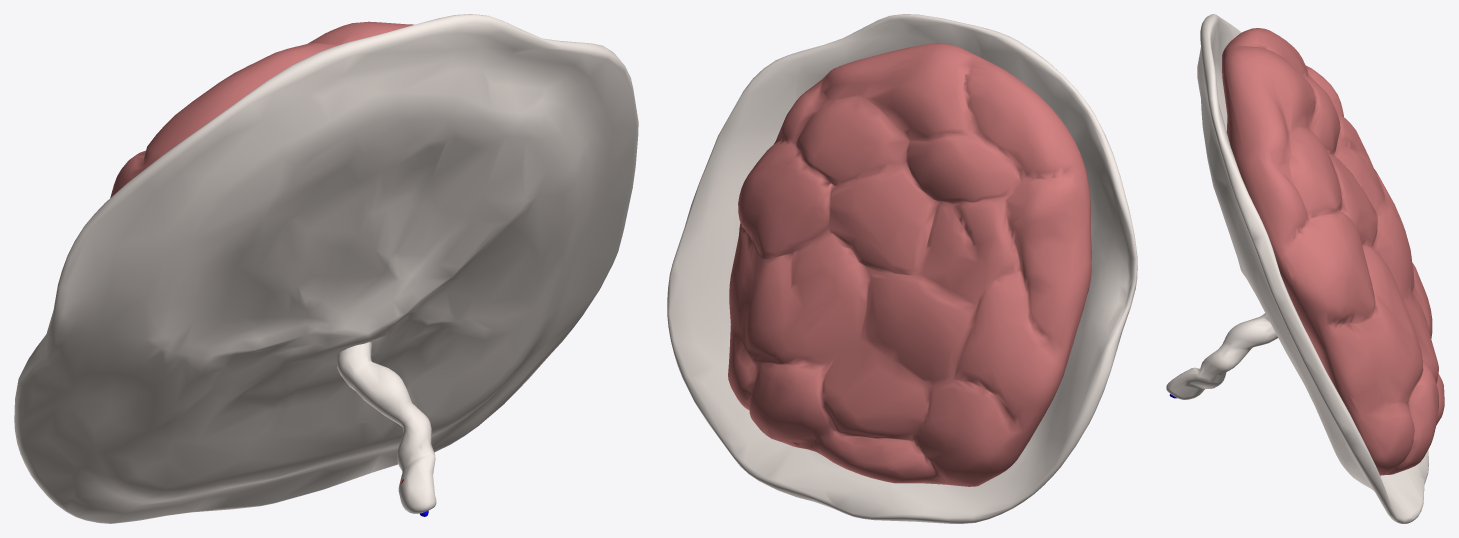
File: hra-placenta.glb
3 renders of one model, left to right at view 1: azimuth 30°, elevation 25°; view 2: azimuth 150°, elevation 25°; view 3: azimuth 270°, elevation 25°, orthographic. The views are drawn at different scales.
Parts seen in each view (by area): view 1: VH_F_amnion, VH_F_basal_plate; view 2: VH_F_basal_plate, VH_F_amnion; view 3: VH_F_basal_plate, VH_F_amnion.
Boxes of the visible parts, x1,y1,x2,y2 form: VH_F_amnion: (14, 14, 638, 523); VH_F_basal_plate: (110, 21, 414, 197); VH_F_basal_plate: (728, 43, 1091, 486); VH_F_amnion: (667, 14, 1137, 523); VH_F_basal_plate: (1222, 28, 1444, 475); VH_F_amnion: (1166, 14, 1428, 523).
Size of the model in its own units: 0.2509 by 0.2305 by 0.1337.
